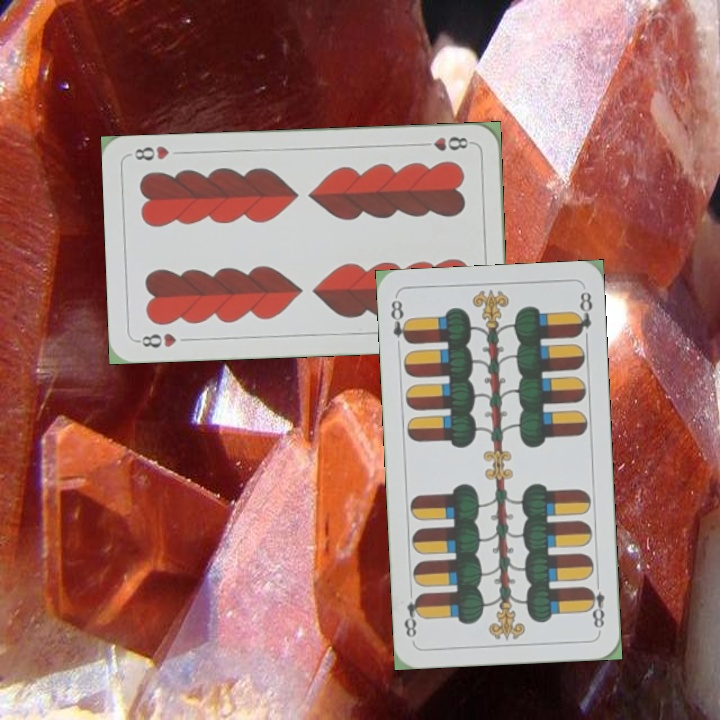E8: (583, 575, 607, 634), (386, 296, 413, 347)
H8: (416, 133, 475, 153), (133, 329, 179, 350)
